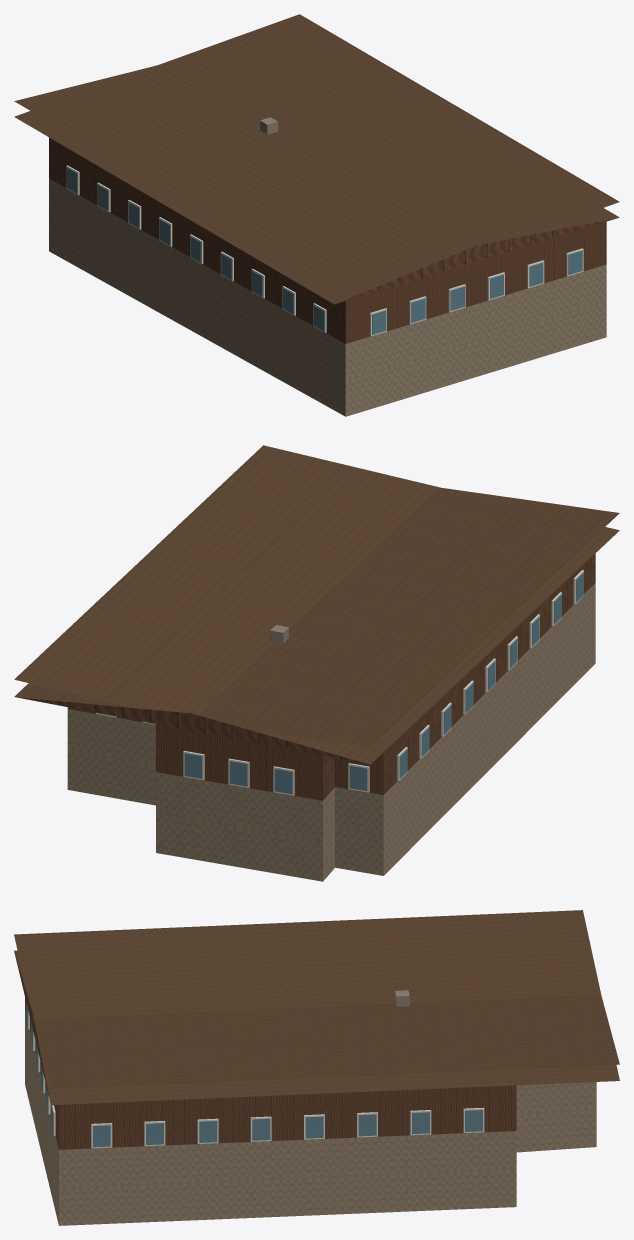
Rendered from core_0047.gltf.
The picture shows the model from 3 angles, top to bottom: view 1: azimuth 30°, elevation 25°; view 2: azimuth 150°, elevation 25°; view 3: azimuth 270°, elevation 25°; orthographic projection. The views are drawn at different scales.
Visible parts, largest first — view 1: core_0047; view 2: core_0047; view 3: core_0047.
Boxes of the visible parts, x1=… form: core_0047: x1=14, y1=14, x2=619, y2=416; core_0047: x1=14, y1=445, x2=619, y2=881; core_0047: x1=14, y1=910, x2=619, y2=1225.
Bounding box in the file's own units: 23.55 × 8.85 × 33.7.
Materials: 6 (6 with a texture image).
